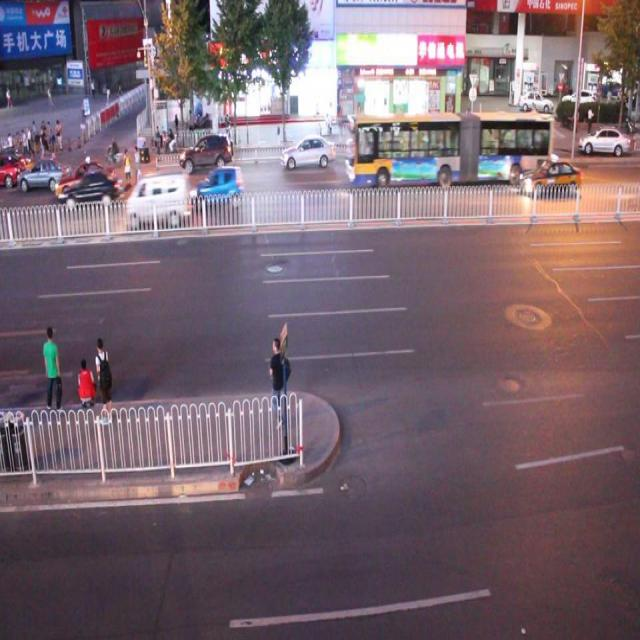BigCar: (342, 96, 562, 201)
car: (172, 117, 238, 179), (194, 168, 262, 227), (125, 178, 197, 232), (278, 118, 337, 176), (51, 165, 128, 206), (521, 153, 581, 204), (575, 116, 633, 162), (15, 158, 74, 198)
